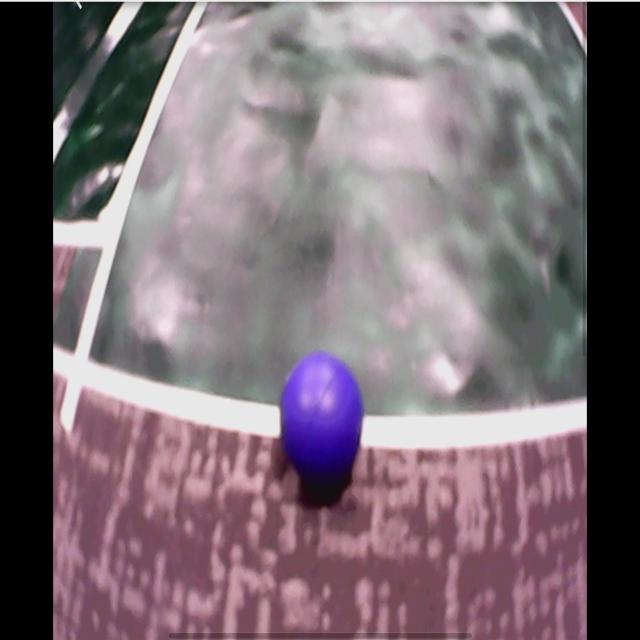ball: (280, 354, 363, 481)
